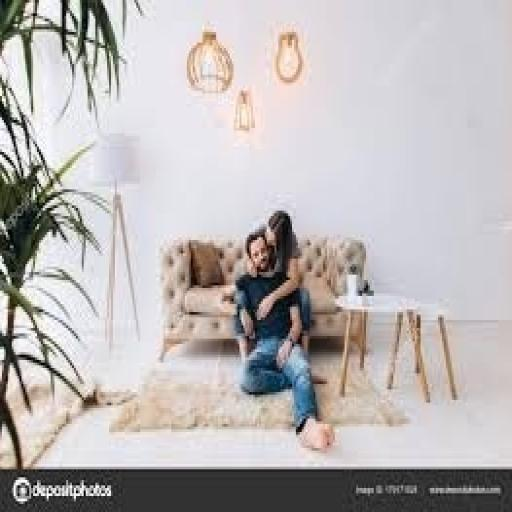sitting: (230, 222, 337, 454)
